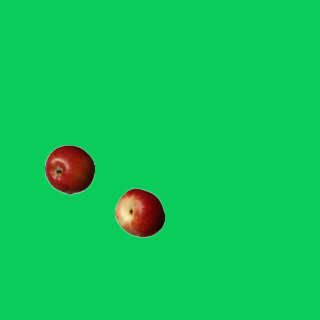Apple Braeburn: (44, 144, 94, 194)
Nectarine: (114, 187, 164, 237)
